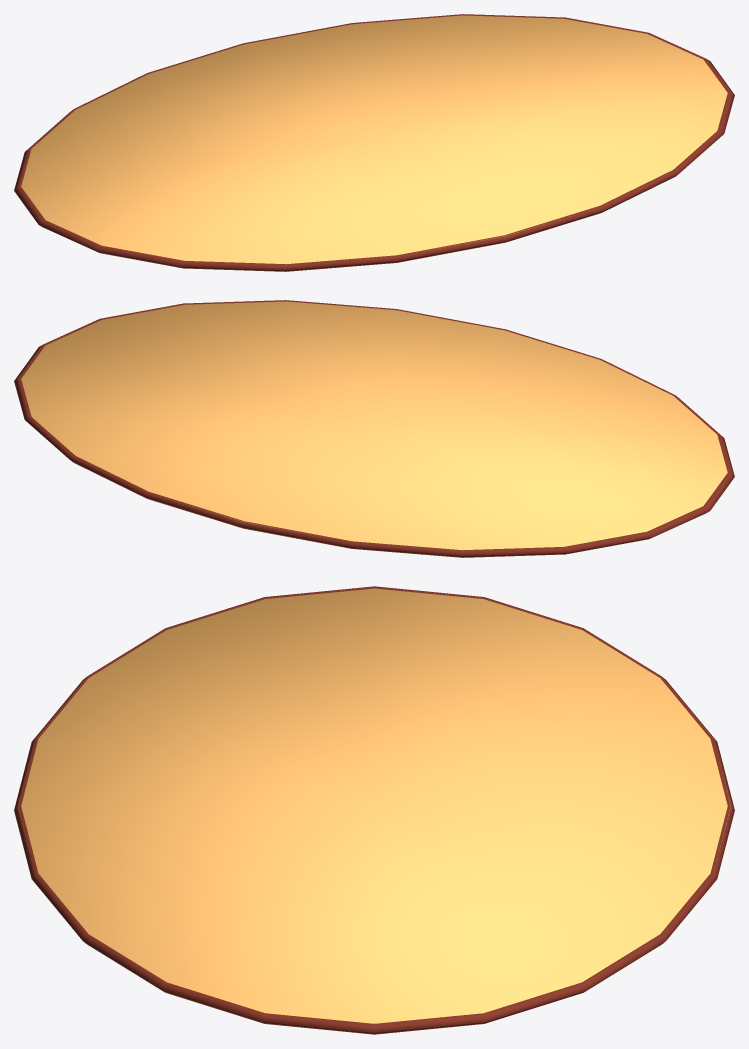
The model's file is puddle.glb.
3 renders of one model, top to bottom at view 1: azimuth 30°, elevation 25°; view 2: azimuth 150°, elevation 25°; view 3: azimuth 270°, elevation 25°, orthographic. The views are drawn at different scales.
Visible parts, largest first — view 1: main__puddle_water, main__puddle_rim; view 2: main__puddle_water, main__puddle_rim; view 3: main__puddle_water, main__puddle_rim.
Boxes of the visible parts, bbox=[...] form: main__puddle_water: bbox=[21, 15, 727, 264]; main__puddle_rim: bbox=[14, 14, 734, 271]; main__puddle_water: bbox=[21, 301, 727, 550]; main__puddle_rim: bbox=[14, 300, 734, 557]; main__puddle_water: bbox=[18, 588, 730, 1023]; main__puddle_rim: bbox=[14, 586, 734, 1034].
Size of the model in its own units: 1.33 by 0.0137 by 0.9101.
